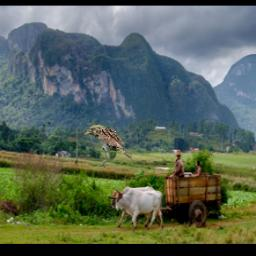Sparrow: (83, 123, 132, 168)
